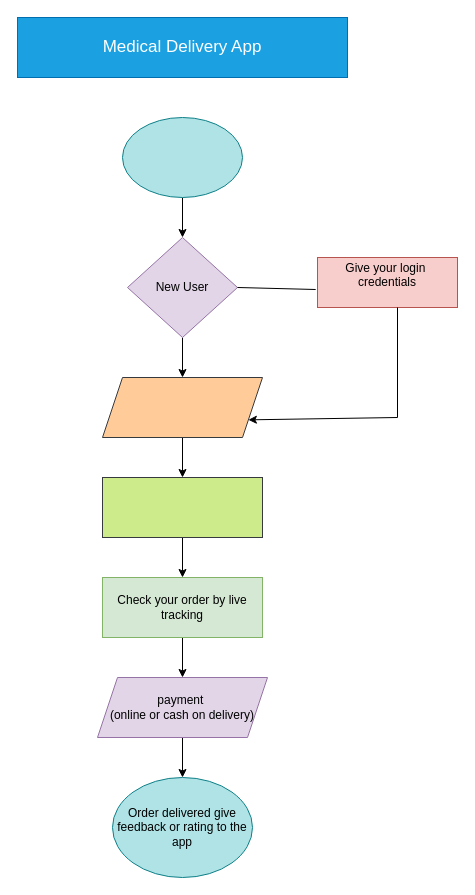
Some shapes in this 475 by 895 pixel diagram are drawn without their labels. The box of each missing label's shape, as (x1, y1, x2, y2) in pixels:
Click on Order by live tracking: (102, 476, 262, 538)
Open App: (122, 116, 242, 198)
upload your prescription: (102, 376, 262, 438)
